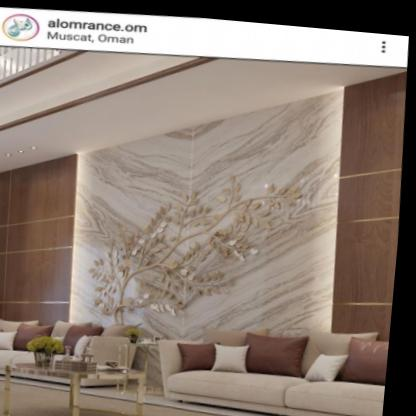Gypsum Board: (0, 43, 400, 187)
Wall Panel: (0, 66, 402, 326)
